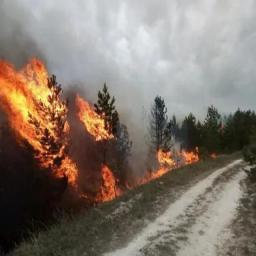Low smoke: (0, 0, 234, 171)
Medium fire: (0, 55, 217, 218)
